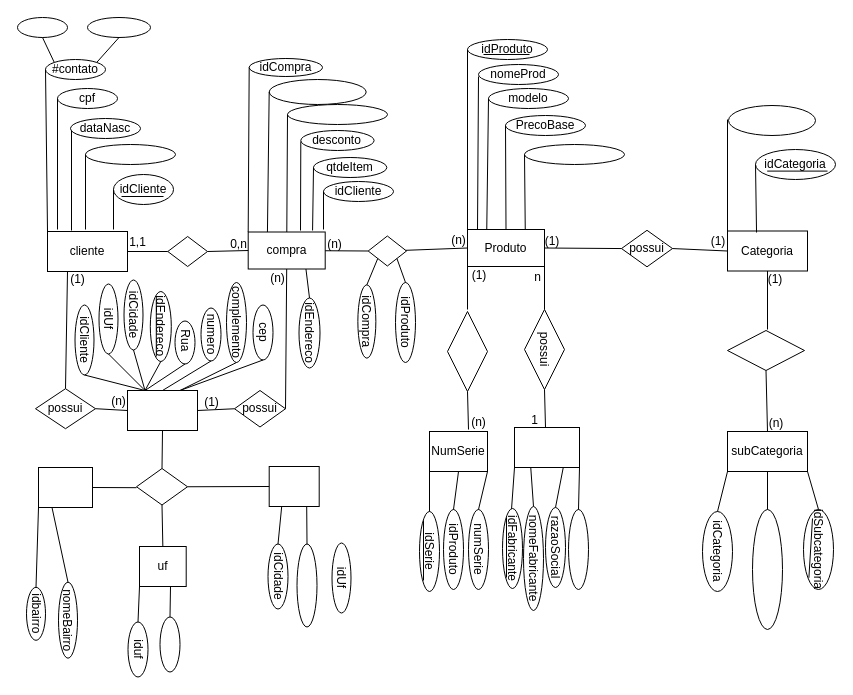
The diagram is 853 pixels wide and 695 high, and some of its shapes have lost their labels. The shapes that lost their labels are listed below. From the top down, each one's box as (x1, y1, x2, y2) in pixels, then its label:
(16, 16, 68, 38): email
(86, 16, 150, 38): telefone
(268, 78, 366, 104): valorCompra
(286, 104, 388, 124): dataHoracompra
(728, 104, 816, 136): nomeCategoria
(84, 144, 176, 164): nomeCompleto
(524, 144, 624, 164): qtdeDisponivel
(167, 236, 208, 266): faz
(367, 235, 406, 266): item
(446, 310, 488, 392): tem
(726, 330, 804, 370): contem
(126, 390, 198, 430): endereco
(514, 426, 580, 468): fabricante
(38, 466, 92, 508): bairro
(136, 468, 188, 505): contido
(268, 466, 319, 506): cidade
(568, 508, 588, 590): cnpj
(752, 508, 782, 630): nomeSubcategoria
(296, 543, 317, 627): nomeCidade
(159, 616, 180, 672): nomeUf
